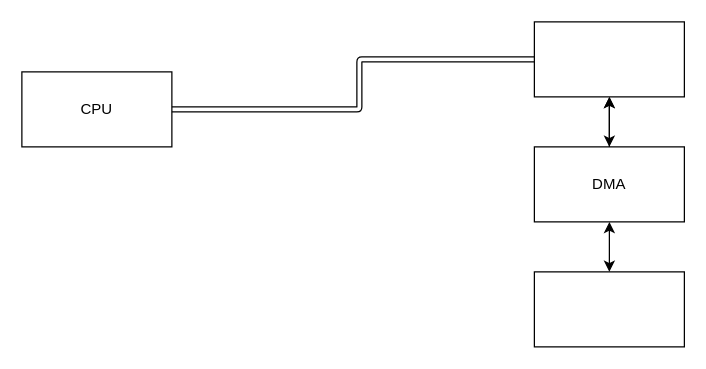
The diagram is 706 pixels wide and 369 high, and some of its shapes have lost their labels. Each missing label, with the box of its shape:
Adresni prostor: (533, 21, 684, 97)
I/O: (533, 271, 684, 347)
